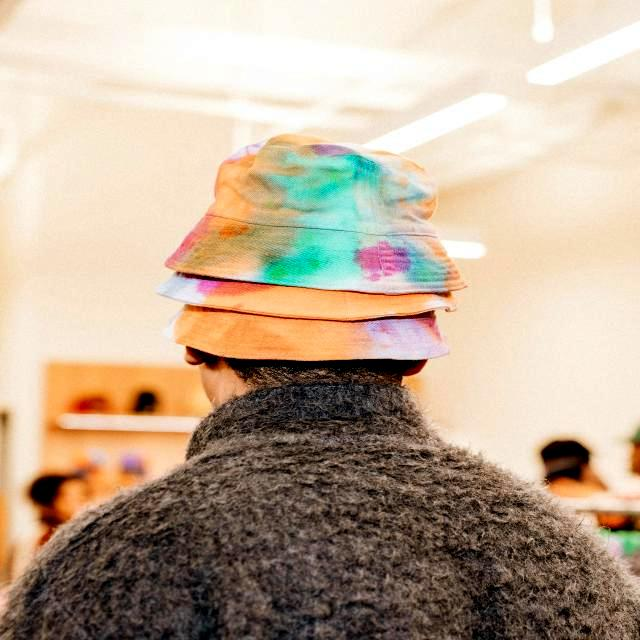no_hard_hat: (156, 135, 465, 360)
person: (1, 135, 640, 640)
